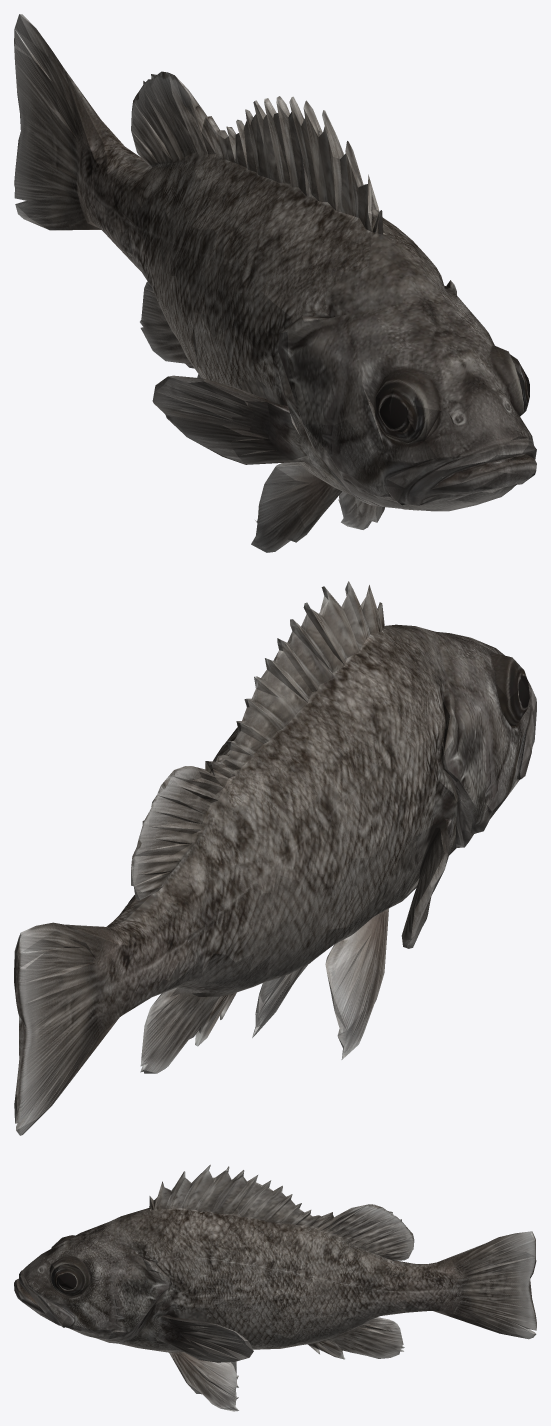
File: Meshy_AI_A_single_realistic_yo_1117030122_texture.glb
3 renders of one model, top to bottom at view 1: azimuth 30°, elevation 25°; view 2: azimuth 150°, elevation 25°; view 3: azimuth 270°, elevation 25°, orthographic. The views are drawn at different scales.
Visible parts, largest first — view 1: output_unwrapped; view 2: output_unwrapped; view 3: output_unwrapped.
Boxes of the visible parts, <box> form: output_unwrapped: <box>14,14,536,552</box>; output_unwrapped: <box>14,581,536,1135</box>; output_unwrapped: <box>14,1164,536,1411</box>.
Size of the model in its own units: 0.5922 by 0.9425 by 1.9.
Materials: 1 (1 with a texture image).
